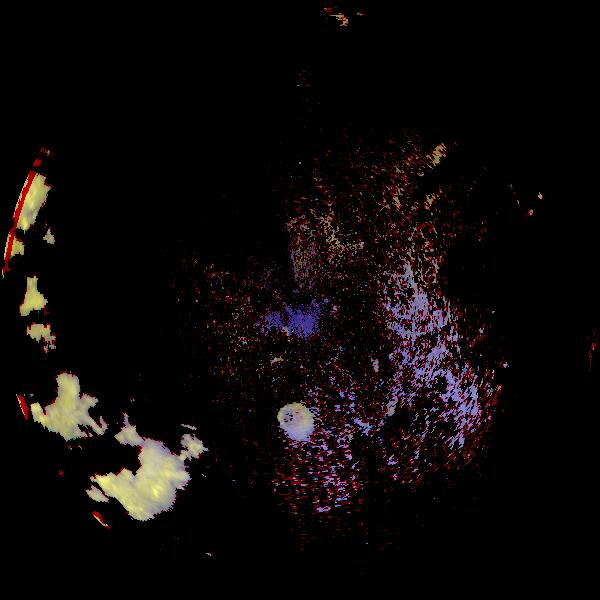roost: (275, 400, 314, 439)
